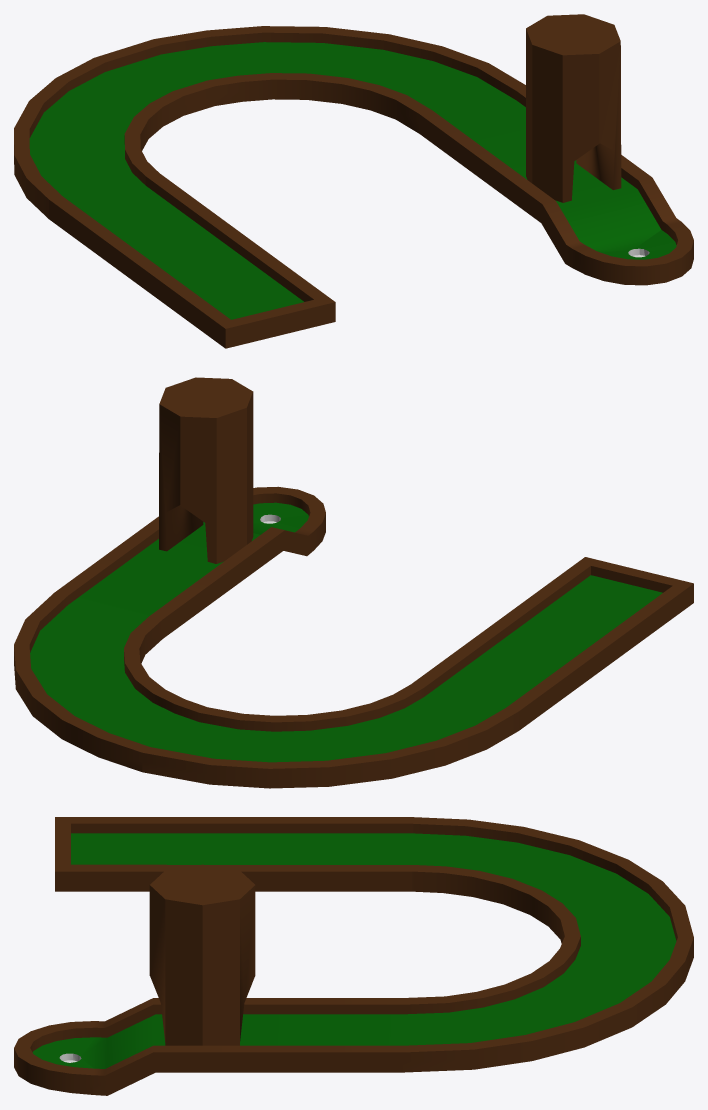
File: Course3.fbx
3 renders of one model, top to bottom at view 1: azimuth 30°, elevation 25°; view 2: azimuth 150°, elevation 25°; view 3: azimuth 270°, elevation 25°, orthographic. The views are drawn at different scales.
Parts seen in each view (by area): view 1: course; view 2: course; view 3: course.
Part boxes in pixels (x1,y1,x2,y2): course: [14, 14, 693, 348]; course: [14, 377, 693, 788]; course: [14, 817, 693, 1095].
Size of the model in its own units: 10.54 by 3.84 by 12.87.
